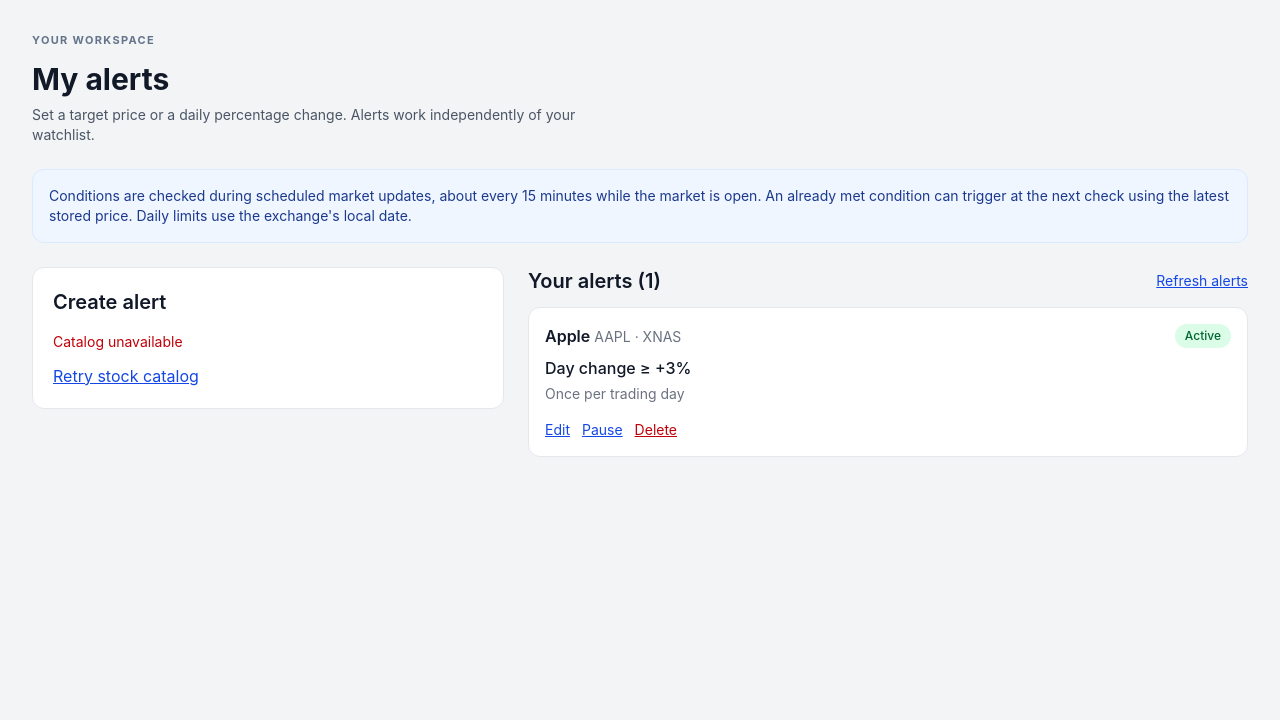
Scenario: Alerts › lists existing alerts when the catalog fails and supports retry
Expected: the text "Day change ≥ +3%" is shown, [545,356,691,380]
Expected: the message reads "Catalog unavailable", [53,332,182,350]
Click the button "Retry stock catalog": x=126, y=376 [53,364,199,388]
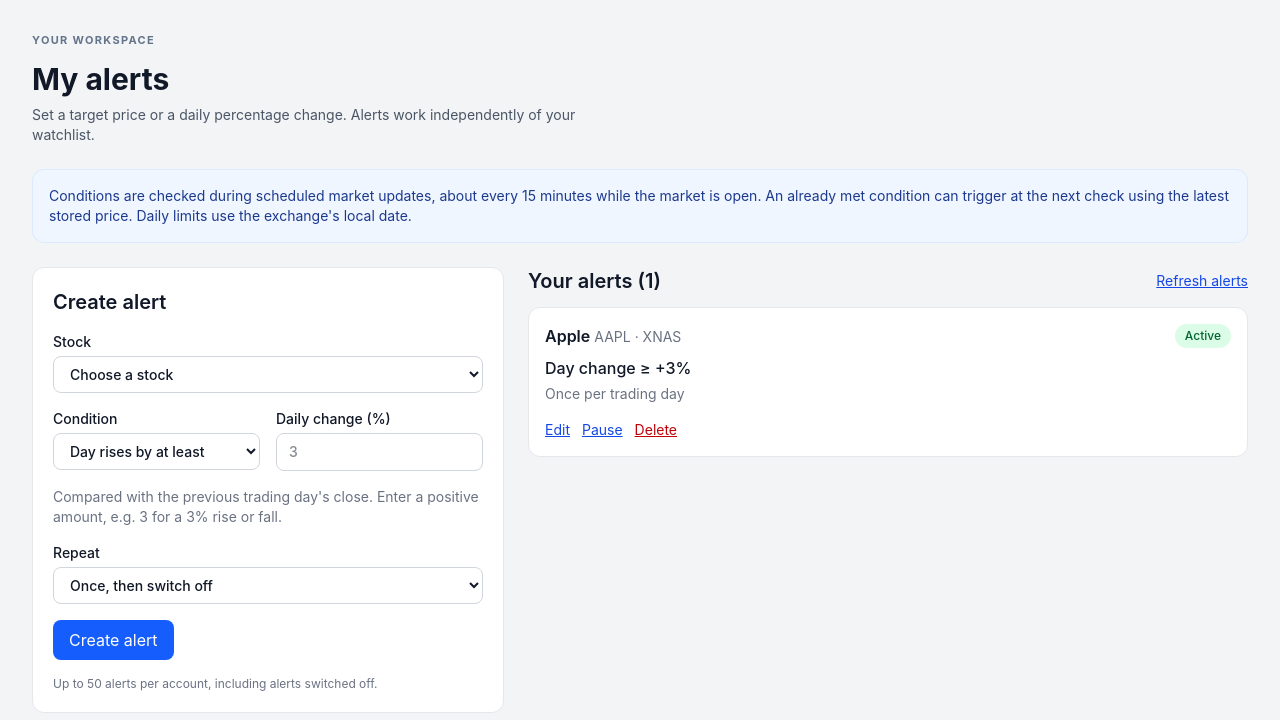
Expected: the form named "Create alert" is shown, [53,332,483,660]
